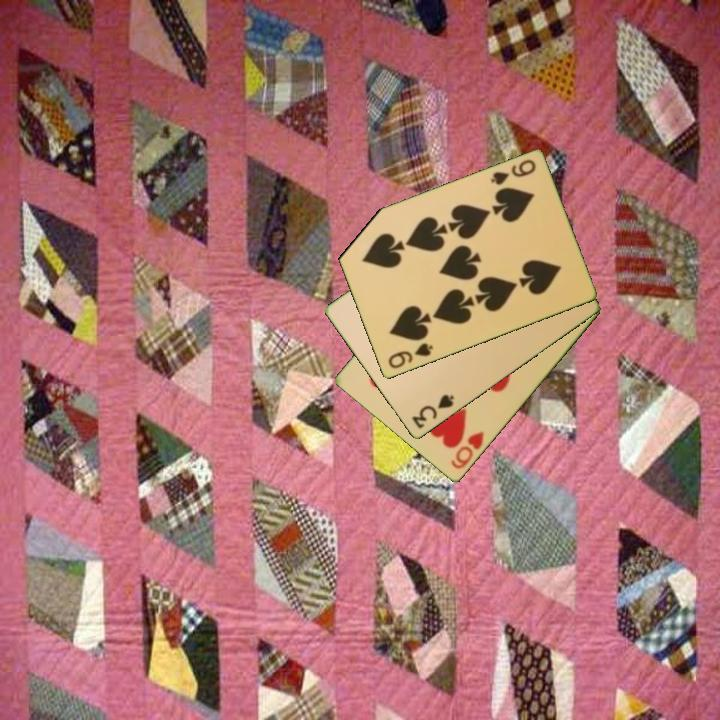3s: (408, 391, 457, 432)
6h: (447, 428, 487, 472)
9s: (384, 340, 436, 372), (487, 156, 539, 188)
